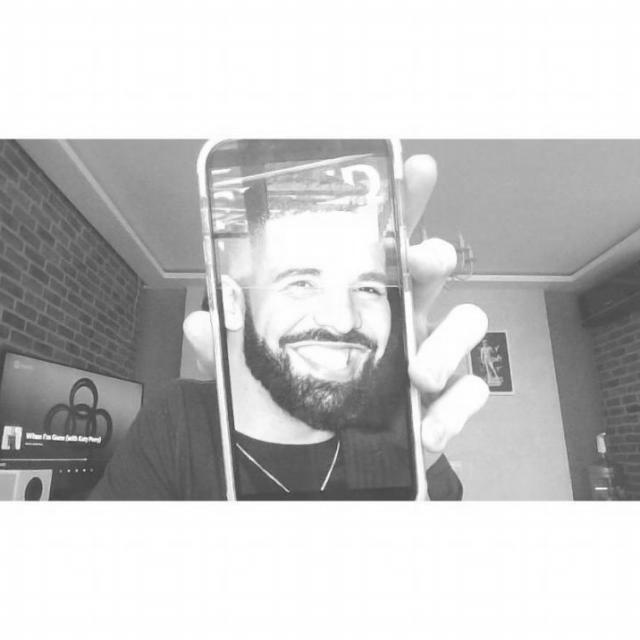fake: (193, 138, 445, 500)
